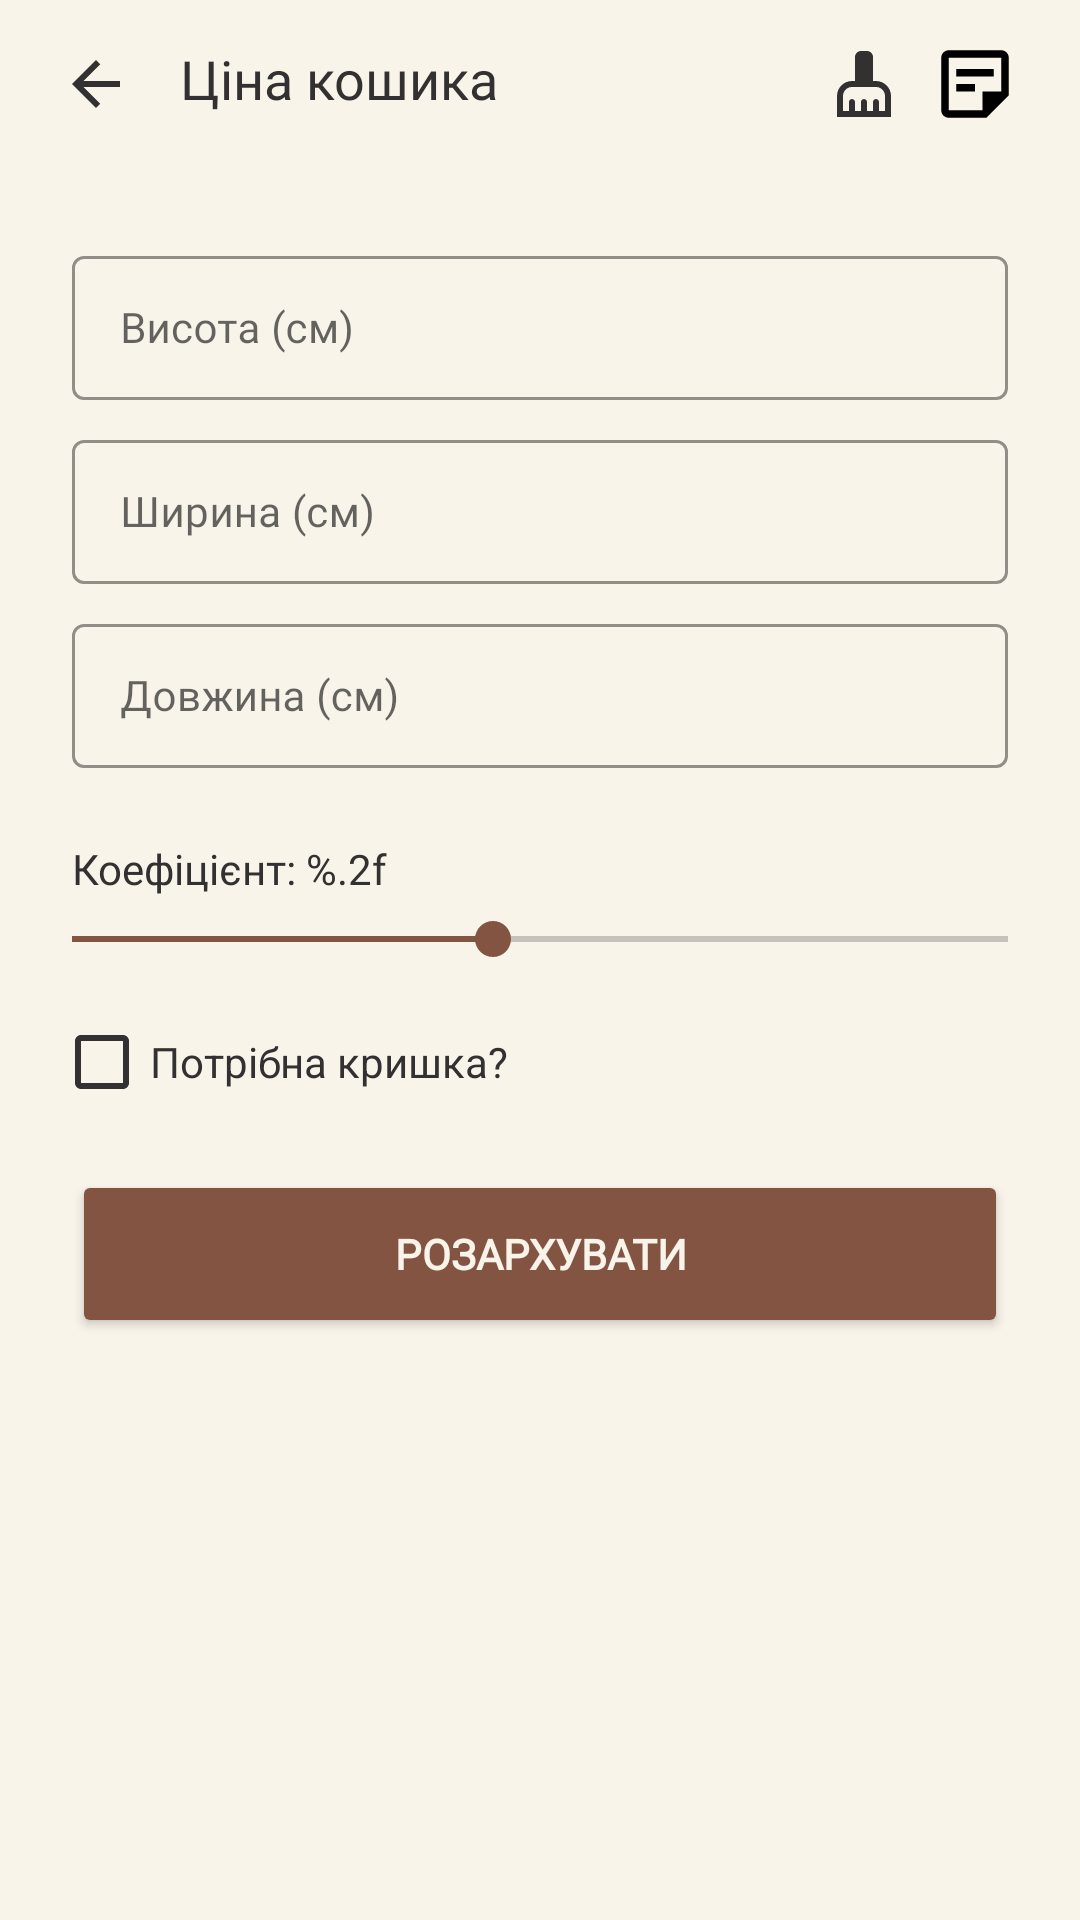

Locate icon controls on the screen. Image size 1080px x 1920px, boxes as [x1,y1,x2,y2].
Кнопка вибору списку нотаток: [941,50,1009,118]
Кнопка для очищення всіх значень: [837,51,891,117]
Кнопка повернутися назад: [72,60,120,108]
